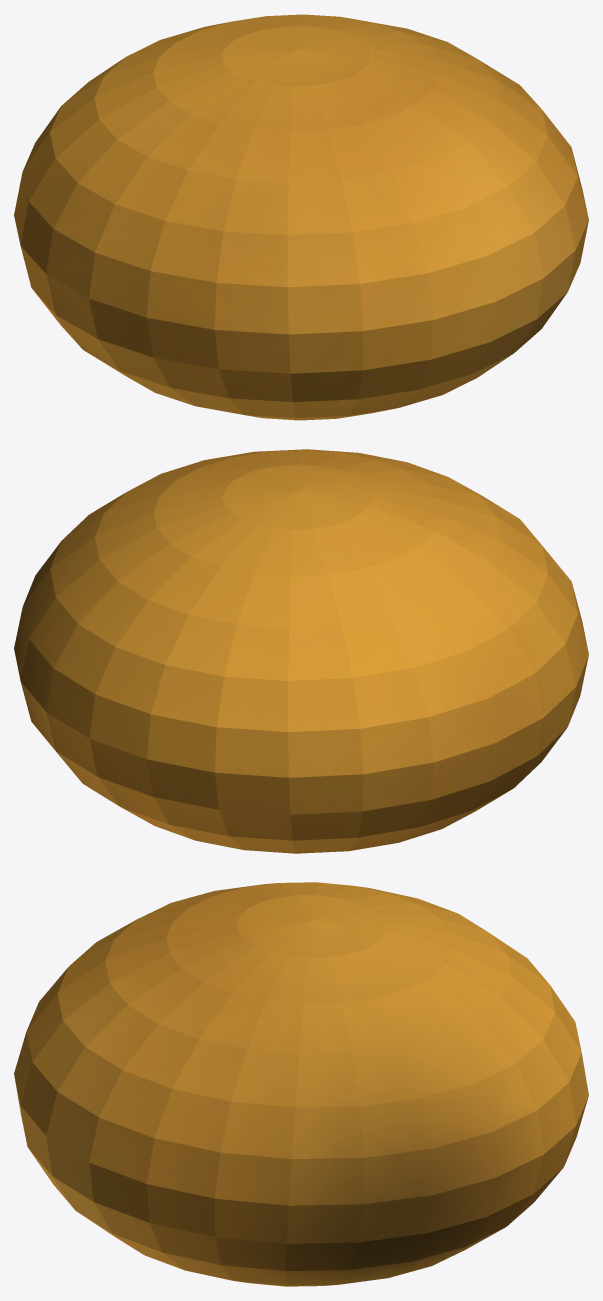
3 renders of one model, top to bottom at view 1: azimuth 30°, elevation 25°; view 2: azimuth 150°, elevation 25°; view 3: azimuth 270°, elevation 25°, orthographic.
Parts seen in each view (by area): view 1: V5 Christmas Collection2.9_V5 Christmas Collection2_0.001; view 2: V5 Christmas Collection2.9_V5 Christmas Collection2_0.001; view 3: V5 Christmas Collection2.9_V5 Christmas Collection2_0.001.
Boxes of the visible parts, x1,y1,x2,y2 form: V5 Christmas Collection2.9_V5 Christmas Collection2_0.001: [14, 14, 588, 420]; V5 Christmas Collection2.9_V5 Christmas Collection2_0.001: [14, 449, 588, 853]; V5 Christmas Collection2.9_V5 Christmas Collection2_0.001: [14, 882, 588, 1286].
Size of the model in its own units: 10.23 by 6.41 by 10.23.
Materials: 1 (1 with a texture image).
